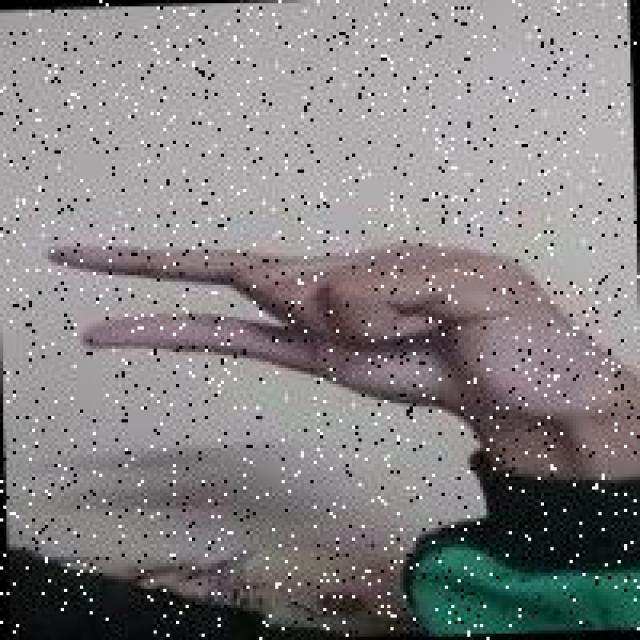G: (43, 216, 622, 459)
